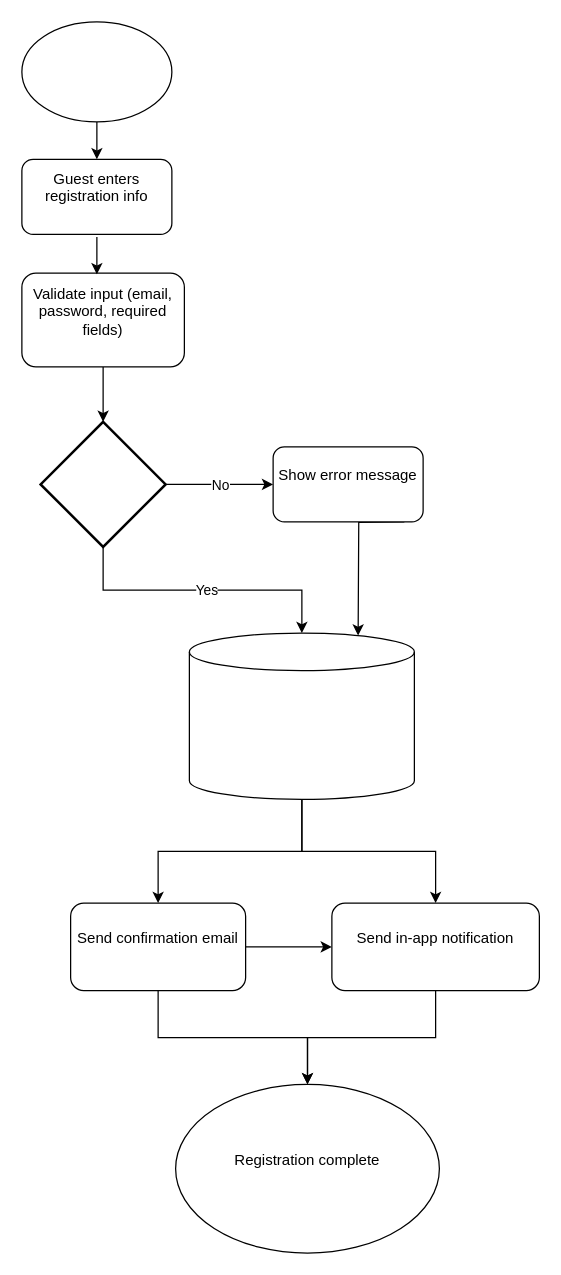
The diagram is 561 pixels wide and 1275 high, and some of its shapes have lost their labels. Here are the shapes that lost their labels. From the top down, the centre of each, then its label:
At (96,71): "Start".
At (102,484): "Input valid?".
At (301,715): "Create user record in Users table".
